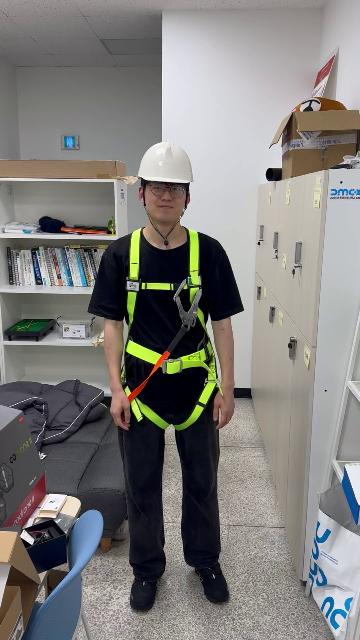helmet_worn: (136, 138, 195, 185)
shoe_worn: (191, 561, 233, 607), (128, 568, 162, 613)
vest_worn: (125, 227, 217, 433)
